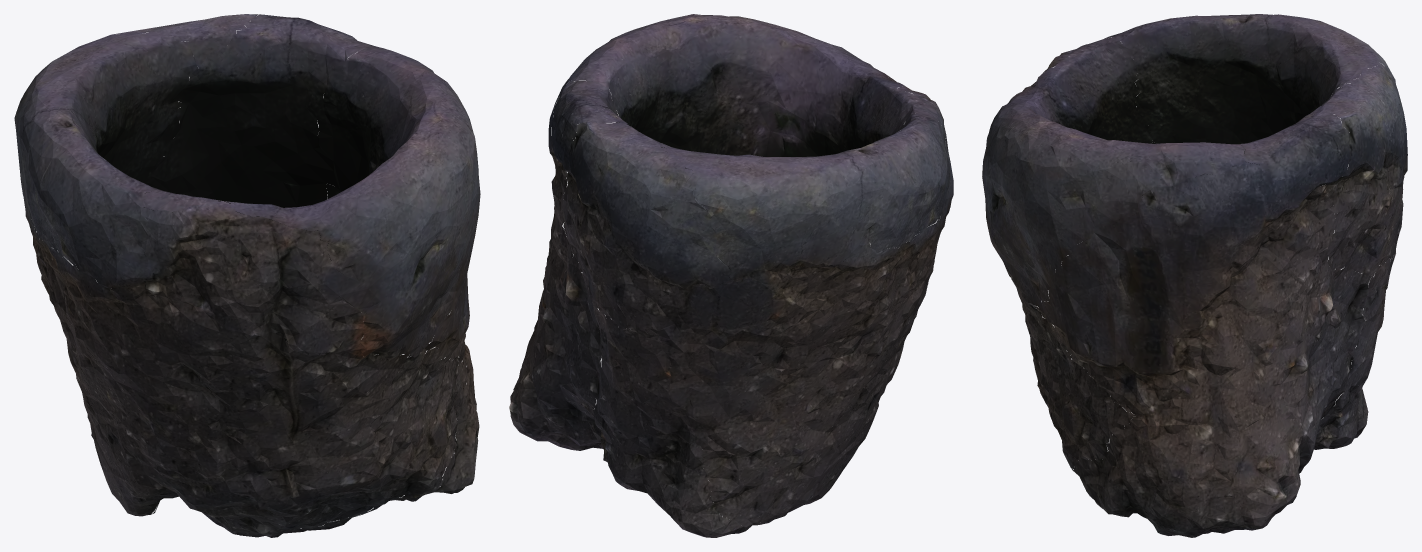
File: Objeto_09_4k-b.glb
3 renders of one model, left to right at view 1: azimuth 30°, elevation 25°; view 2: azimuth 150°, elevation 25°; view 3: azimuth 270°, elevation 25°, orthographic. The views are drawn at different scales.
Visible parts, largest first — view 1: Mesh_0; view 2: Mesh_0; view 3: Mesh_0.
Part boxes in pixels (left/top/right/bottom): Mesh_0: left=14, top=14, right=480, bottom=537; Mesh_0: left=509, top=14, right=953, bottom=537; Mesh_0: left=982, top=14, right=1407, bottom=537.
Size of the model in its own units: 0.0644 by 0.0622 by 0.0624.
Materials: 1 (1 with a texture image).
